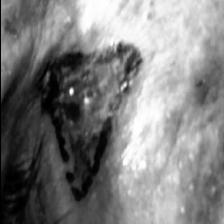Potentially Malignant Skin Tumors: (38, 44, 144, 202)
